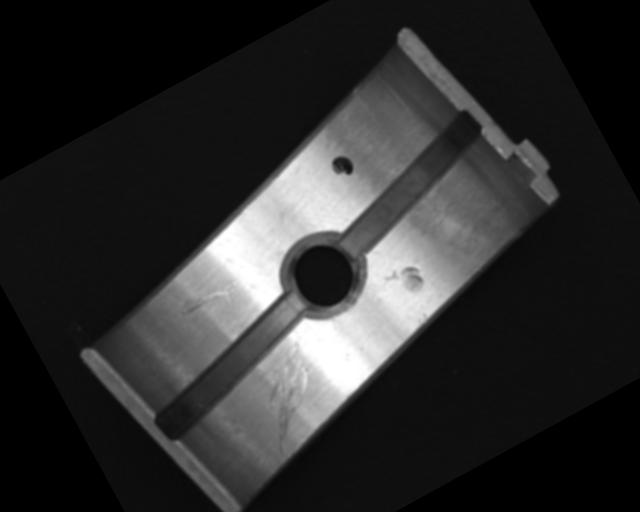blot: (327, 150, 358, 182)
bruise: (383, 260, 428, 303), (409, 310, 432, 330)
gap: (132, 290, 332, 445), (314, 106, 505, 260)
hole: (269, 220, 374, 329)
nick: (237, 336, 344, 454), (177, 276, 241, 321)
